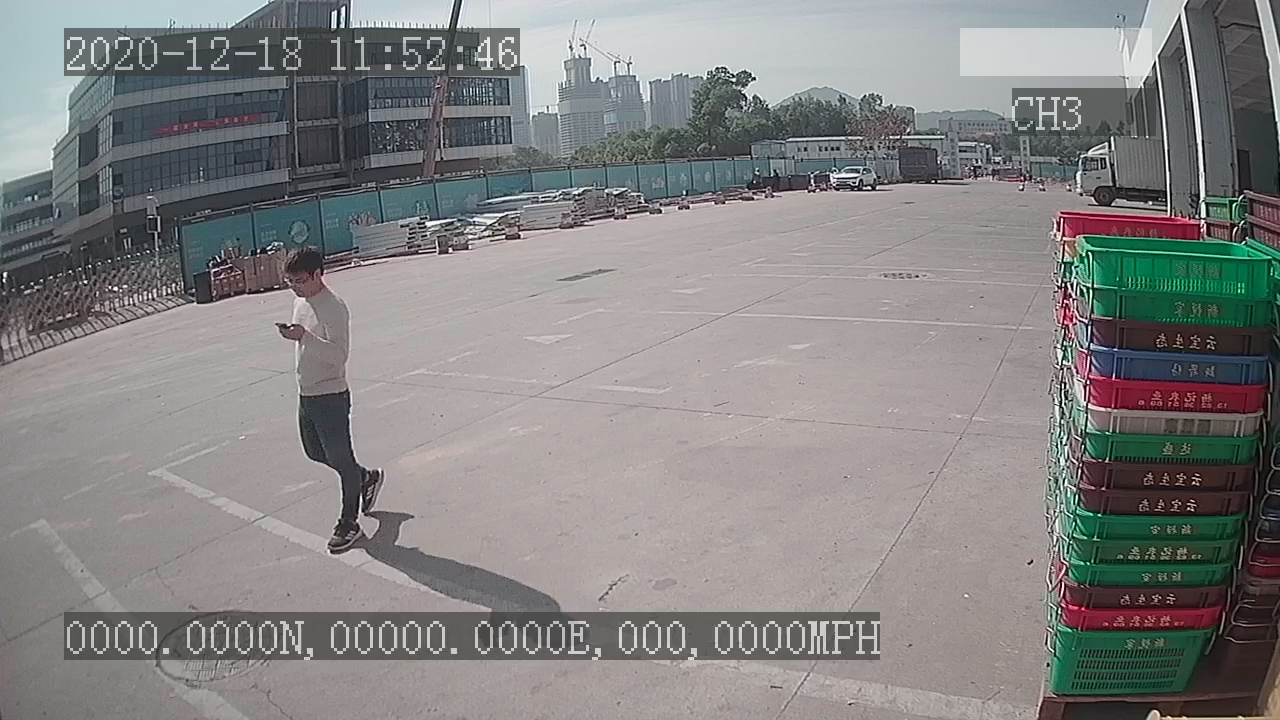person: (272, 236, 386, 560)
